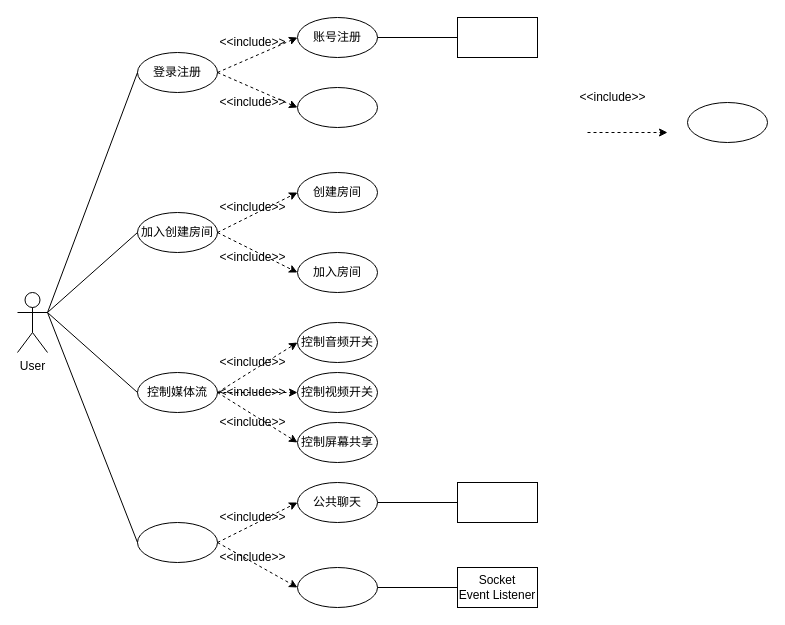
This 785x625 diagram has some shape labels left out. Each missing label, with the centre of its shape:
"mailer API" goes at point 497,37.
"webRTC data Channel" goes at point 497,502.
"注册" goes at point 727,122.
"用户私聊" goes at point 337,587.
"聊天" goes at point 177,542.
"账号登录" goes at point 337,107.
